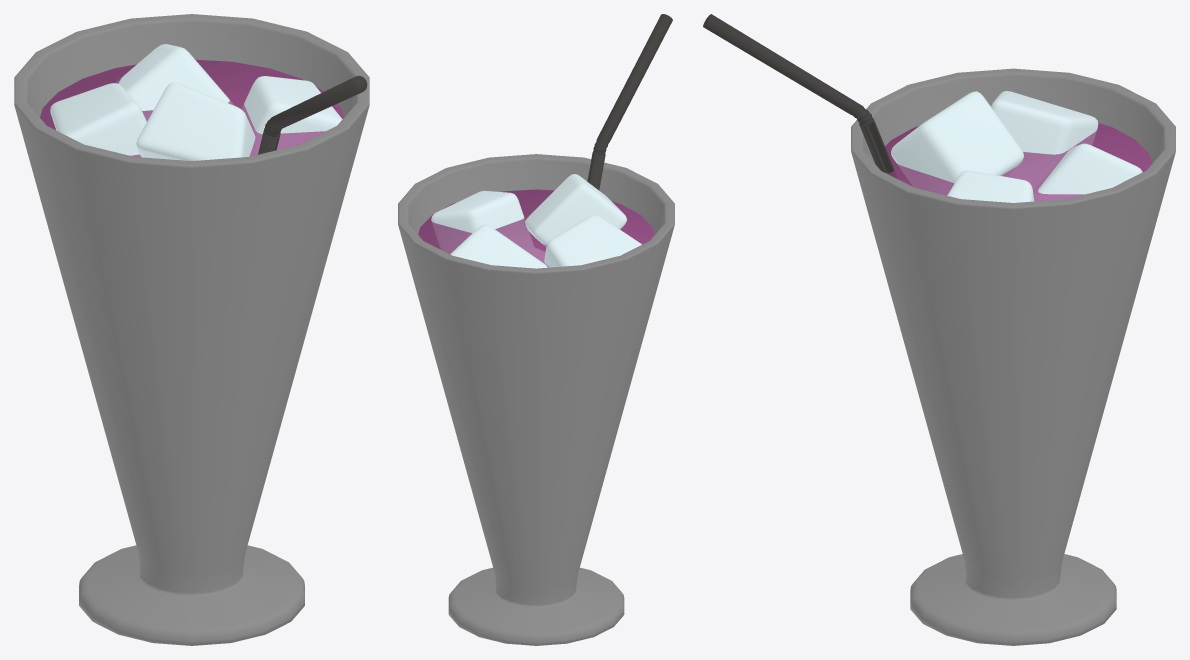
File: cocktail.glb
3 renders of one model, left to right at view 1: azimuth 30°, elevation 25°; view 2: azimuth 150°, elevation 25°; view 3: azimuth 270°, elevation 25°, orthographic. The views are drawn at different scales.
Visible parts, largest first — view 1: Object_3, Object_5, Object_4, Object_6; view 2: Object_3, Object_5, Object_4, Object_6; view 3: Object_3, Object_5, Object_4, Object_6.
Part boxes in pixels (<box>): Object_3: <box>14,14,369,645</box>; Object_5: <box>50,44,342,160</box>; Object_4: <box>40,59,343,157</box>; Object_6: <box>258,76,367,154</box>; Object_3: <box>398,154,674,645</box>; Object_5: <box>431,174,641,268</box>; Object_4: <box>418,189,654,267</box>; Object_6: <box>587,14,672,190</box>; Object_3: <box>851,68,1175,645</box>; Object_5: <box>891,91,1142,202</box>; Object_4: <box>874,123,1152,201</box>; Object_6: <box>703,14,897,178</box>.
Bounding box in the file's own units: 12.6 × 24.74 × 18.07.
Materials: 5 (5 with a texture image).
